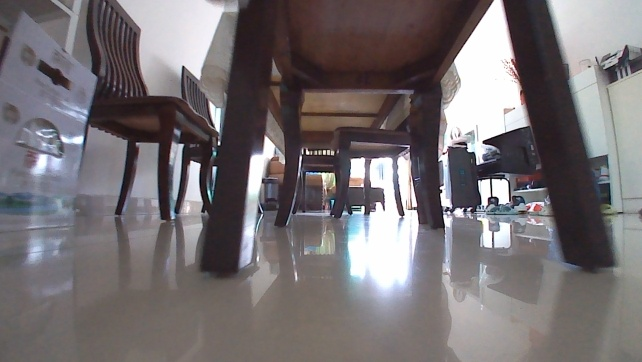dining_table: (74, 0, 620, 282)
slipper: (485, 203, 519, 216)
